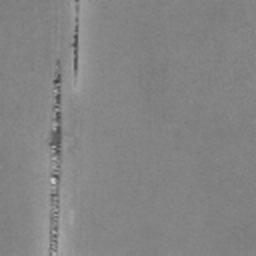Slag inclusion: (48, 58, 62, 256), (71, 17, 79, 77)
